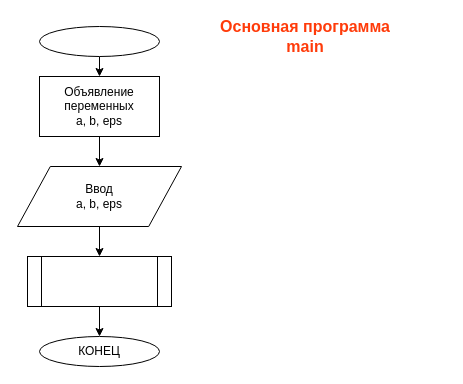
Image size: 463x384. Some labels were removed from this diagram. The shapes that lost their labels are listed below. From the top down, each one's centre as x and y in pixels, then its label:
point 99,41: НАЧАЛО
point 99,281: find(a,b,eps)
